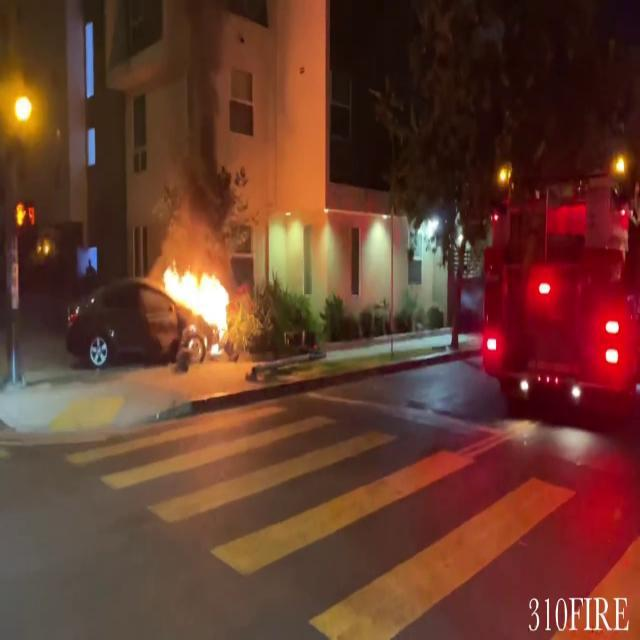Fire: (156, 253, 241, 352)
Smoke: (145, 0, 245, 244)
